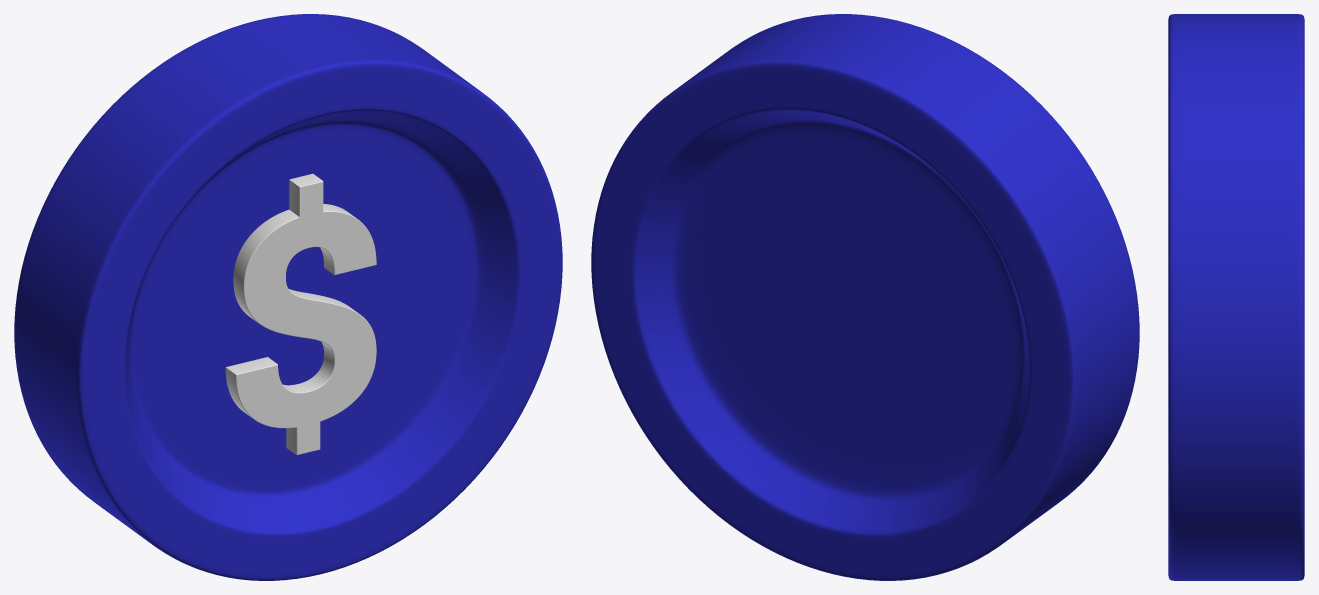
File: dollar.fbx
3 renders of one model, left to right at view 1: azimuth 30°, elevation 25°; view 2: azimuth 150°, elevation 25°; view 3: azimuth 270°, elevation 25°, orthographic.
Visible parts, largest first — view 1: Dollar; view 2: Dollar; view 3: Dollar.
Boxes of the visible parts, <box> form: Dollar: <box>14,14,562,580</box>; Dollar: <box>591,14,1139,580</box>; Dollar: <box>1168,14,1304,580</box>.
Size of the model in its own units: 186 by 186 by 44.8.
